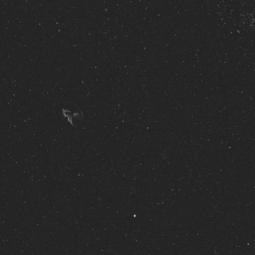debris: (58, 105, 88, 128)
